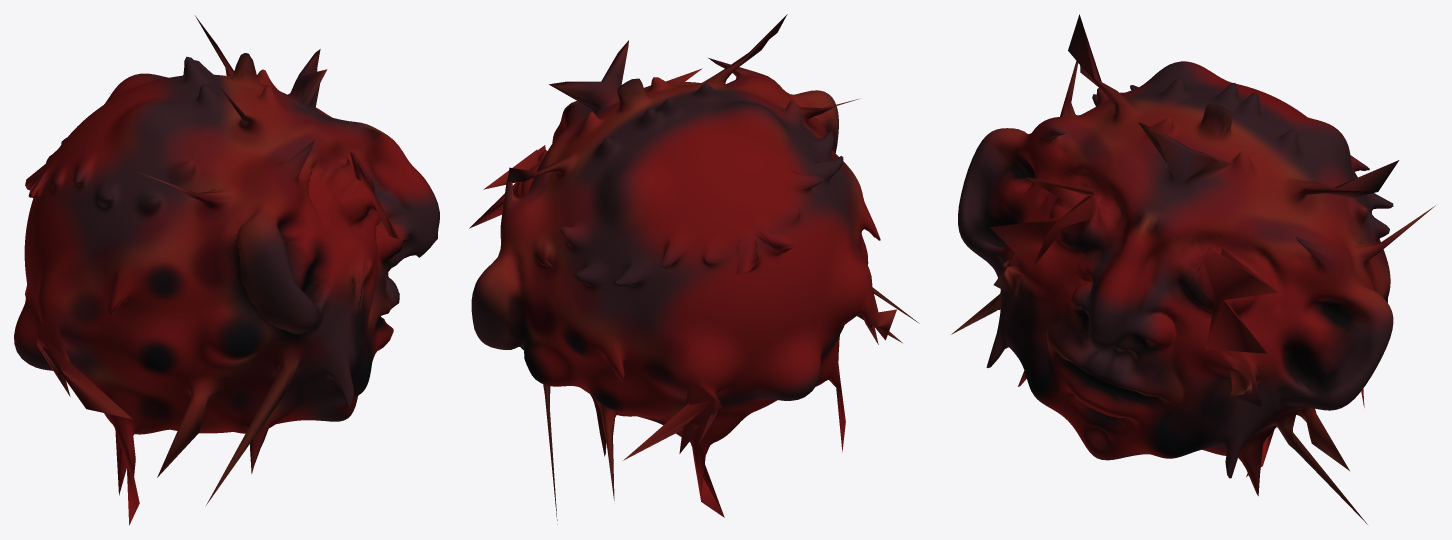
Rendered from madball2.fbx.
3 renders of one model, left to right at view 1: azimuth 30°, elevation 25°; view 2: azimuth 150°, elevation 25°; view 3: azimuth 270°, elevation 25°, orthographic. The views are drawn at different scales.
Parts seen in each view (by area): view 1: Quad Sphere; view 2: Quad Sphere; view 3: Quad Sphere.
Part boxes in pixels (x1,y1,x2,y2): Quad Sphere: [14, 15, 439, 525]; Quad Sphere: [469, 14, 919, 524]; Quad Sphere: [951, 14, 1435, 524].
Size of the model in its own units: 313 by 371 by 348.
